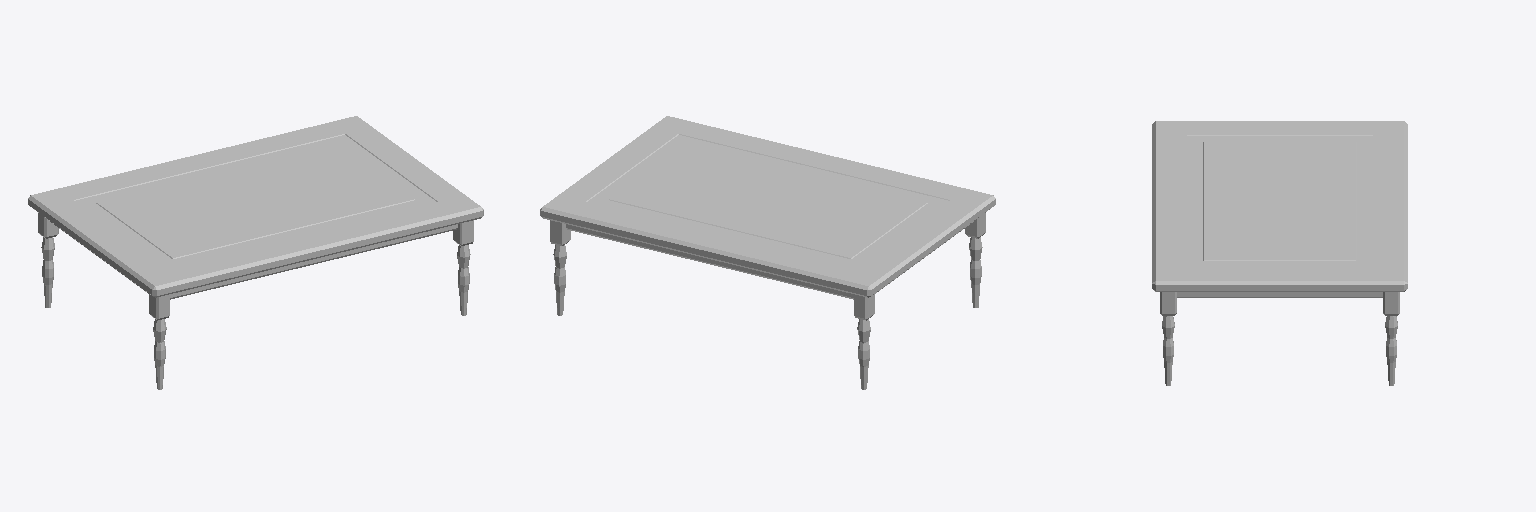
Rendered from Prop_Dining_Room_Table_Rectangle.obj.
3 views of the same model, side by side, from view 1: azimuth 30°, elevation 25°; view 2: azimuth 150°, elevation 25°; view 3: azimuth 270°, elevation 25° (orthographic).
Parts seen in each view (by area): view 1: object1; view 2: object1; view 3: object1.
Part boxes in pixels (bbox=[...]): object1: bbox=[28, 116, 483, 389]; object1: bbox=[540, 116, 995, 389]; object1: bbox=[1152, 121, 1407, 385].
Size of the model in its own units: 3 by 0.95 by 2.